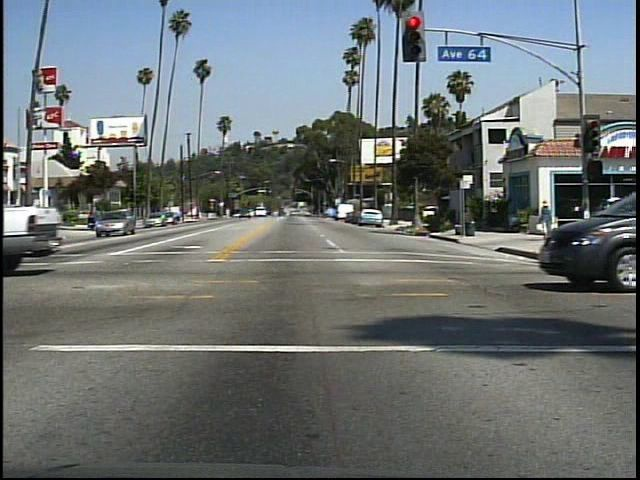person: (535, 194, 562, 236)
